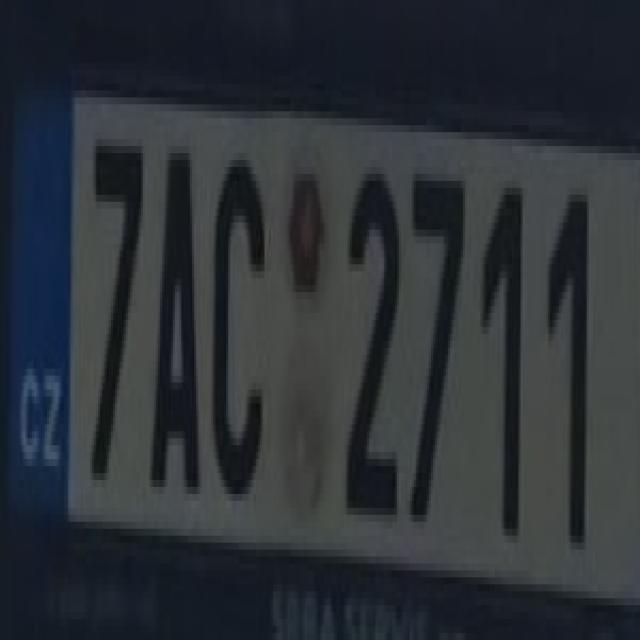1: (534, 160, 598, 536), (476, 160, 525, 529)
2: (333, 139, 403, 508)
7: (74, 118, 150, 480), (403, 153, 467, 522)
A: (136, 132, 202, 494)
C: (202, 139, 272, 501)
